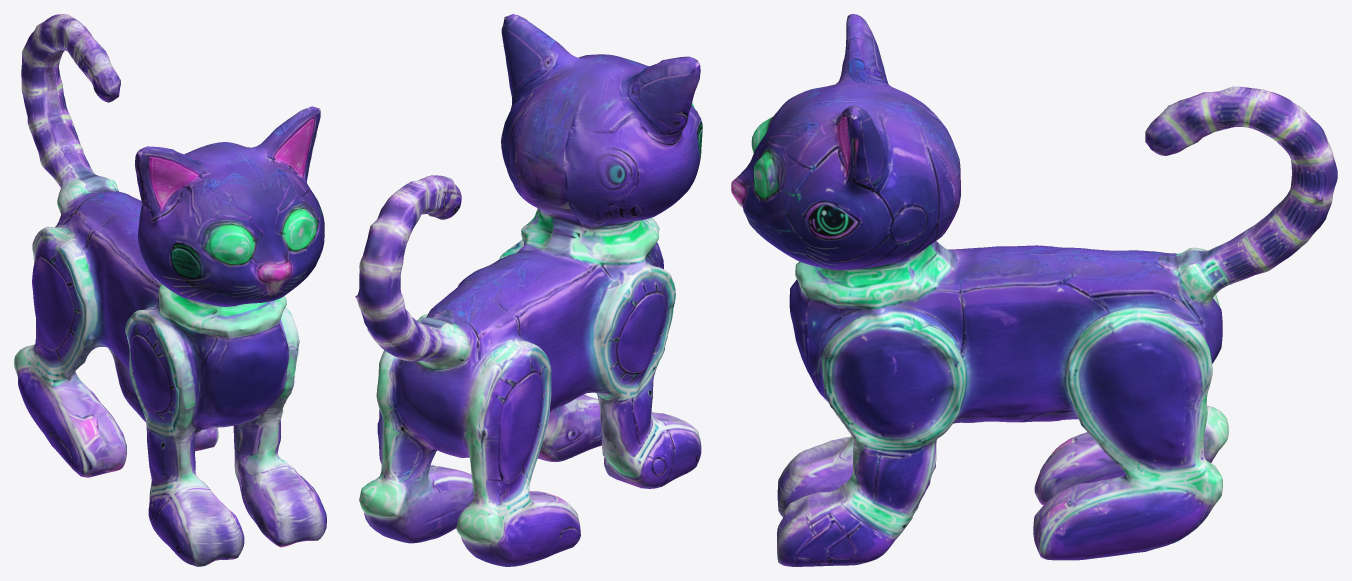
3 views of the same model, side by side, from view 1: azimuth 30°, elevation 25°; view 2: azimuth 150°, elevation 25°; view 3: azimuth 270°, elevation 25° (orthographic). The views are drawn at different scales.
Bounding box in the file's own units: 0.4869 × 1.04 × 1.2.
1 material, 1 textured.
